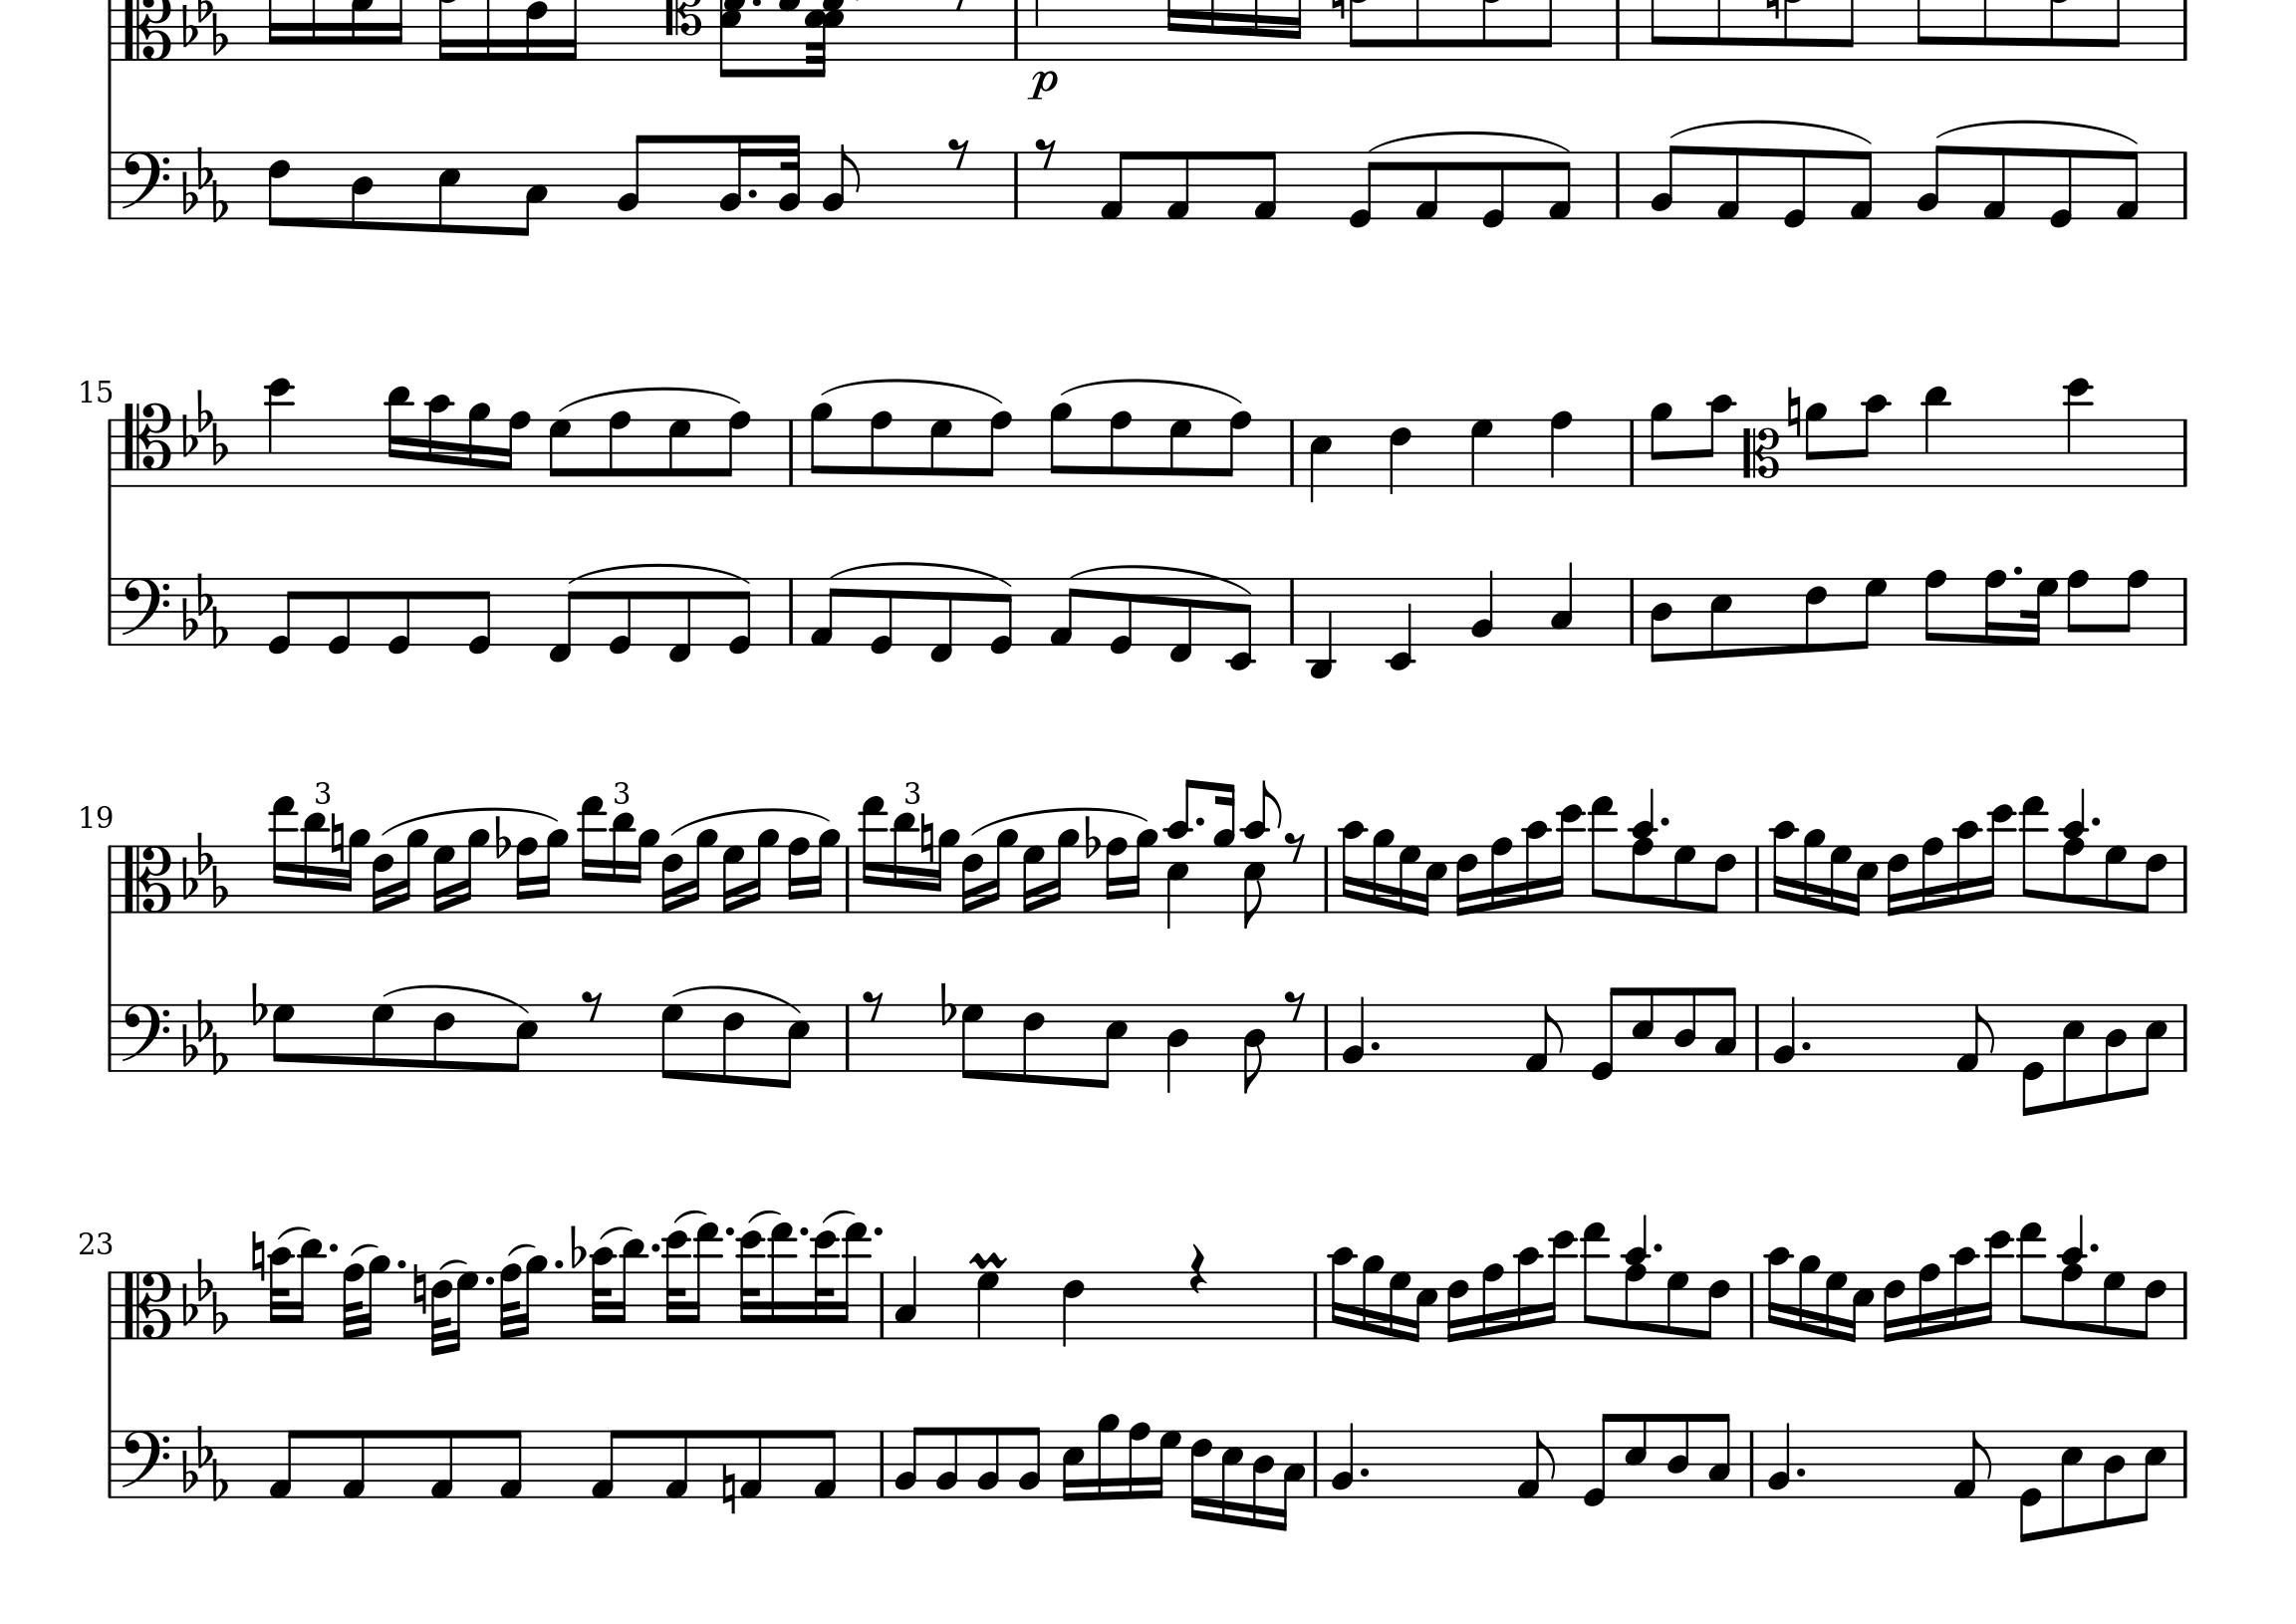1: (79, 376, 93, 404), (79, 801, 93, 830)
16_10: (1326, 1244, 1356, 1341), (1339, 817, 1367, 914), (1769, 817, 1797, 914), (1764, 1244, 1792, 1341), (425, 392, 453, 487), (1523, 817, 1549, 914), (1953, 817, 1980, 914), (1950, 1244, 1976, 1339), (1514, 1246, 1541, 1339)
16_11: (615, 1236, 648, 1341), (383, 383, 413, 487), (293, 1237, 323, 1341), (300, 810, 327, 914), (891, 810, 917, 914), (610, 808, 634, 914)
16_12: (1551, 803, 1585, 916), (1982, 803, 2015, 914), (1980, 1229, 2011, 1343), (1544, 1229, 1574, 1341)
16_13: (689, 1220, 722, 1341), (766, 1220, 796, 1339), (838, 1220, 868, 1339), (269, 794, 295, 914), (859, 794, 885, 914), (578, 794, 604, 912)
16_2: (717, 134, 748, 220)
16_3: (1277, 1429, 1305, 1533)
16_4: (1251, 1427, 1274, 1529)
16_5: (1219, 1427, 1244, 1524), (1409, 1269, 1439, 1343), (1419, 844, 1448, 917), (1846, 1269, 1874, 1343), (1059, 1427, 1086, 1503), (1852, 844, 1878, 917)
16_6: (1188, 1427, 1214, 1520), (1444, 1269, 1469, 1345), (1881, 1269, 1906, 1345), (1885, 844, 1910, 917), (371, 844, 395, 914), (661, 844, 685, 914), (1455, 844, 1477, 917), (961, 845, 984, 914)
16_7: (448, 1269, 480, 1353), (1152, 1427, 1180, 1499), (1822, 1269, 1846, 1343), (720, 844, 745, 914), (1021, 844, 1045, 914), (1395, 844, 1419, 914), (1827, 844, 1852, 914), (1386, 1269, 1409, 1341), (432, 844, 455, 914)
16_8: (499, 410, 531, 487), (1915, 1262, 1941, 1341), (1126, 1420, 1151, 1501), (1983, 568, 2008, 647), (1103, 835, 1128, 914), (1479, 1262, 1504, 1341), (785, 837, 810, 914), (515, 835, 538, 914), (1490, 835, 1513, 914), (1920, 835, 1943, 914)
16_9: (1212, 779, 1237, 916), (362, 1253, 392, 1341), (518, 1253, 548, 1341), (399, 828, 429, 914), (689, 828, 718, 914), (750, 828, 780, 914), (812, 828, 841, 914), (989, 828, 1019, 914), (341, 826, 369, 914), (460, 828, 488, 914), (541, 828, 569, 914), (931, 828, 959, 914), (1051, 828, 1079, 914), (1130, 828, 1158, 914), (1795, 1253, 1822, 1341), (1094, 1411, 1119, 1501), (1801, 826, 1825, 914), (1360, 1253, 1384, 1341), (466, 401, 490, 487), (634, 828, 659, 914), (1370, 826, 1393, 914)
2: (77, 1230, 95, 1255)
3: (903, 779, 921, 807), (613, 779, 631, 805), (95, 1230, 112, 1255), (314, 779, 330, 805)
32_10: (588, 1243, 617, 1341), (267, 1246, 292, 1341)
32_12: (734, 1229, 766, 1339), (661, 1230, 692, 1339), (810, 1230, 838, 1339)
32_2: (776, 132, 801, 221)
32_6: (429, 1269, 453, 1357)
32_7: (2022, 578, 2057, 647)
32_8: (341, 1260, 365, 1341), (497, 1260, 522, 1341)
4_-2: (1386, 575, 1414, 671)
4_-3: (1305, 573, 1335, 682)
4_12: (265, 374, 293, 487), (2064, 376, 2092, 489)
4_2: (1469, 568, 1495, 647), (1771, 993, 1797, 1072), (1765, 1420, 1792, 1499), (1340, 993, 1365, 1074), (1330, 1420, 1354, 1499)
4_3: (1549, 561, 1574, 647), (894, 1253, 917, 1339)
4_4: (1165, 1002, 1191, 1095)
4_5: (1165, 842, 1189, 930), (1309, 418, 1333, 504)
4_6: (1388, 417, 1412, 497), (1061, 1269, 1084, 1350)
4_7: (1469, 418, 1495, 489), (975, 1269, 1001, 1339)
4_8: (1548, 408, 1574, 489)
5: (95, 376, 112, 402)
8_-1: (546, 576, 580, 664), (666, 575, 694, 664), (1168, 575, 1195, 664), (928, 576, 954, 664)
8_-2: (1226, 576, 1256, 671)
8_0: (1579, 1411, 1616, 1508), (1588, 984, 1623, 1083), (2020, 1002, 2045, 1118), (2017, 1427, 2041, 1543), (265, 575, 300, 654), (1347, 149, 1379, 230), (1780, 146, 1808, 230), (2047, 146, 2075, 230), (1479, 148, 1507, 230), (466, 575, 494, 656), (325, 576, 353, 654), (606, 576, 634, 654), (727, 576, 754, 656), (868, 576, 894, 656), (987, 576, 1014, 656), (1108, 576, 1135, 656), (385, 576, 411, 654)
8_1: (1523, 1002, 1565, 1074), (1952, 1427, 1994, 1499), (1514, 1429, 1556, 1499), (1955, 1002, 1996, 1074), (265, 1427, 300, 1499), (1098, 148, 1131, 221), (588, 1427, 622, 1499), (808, 576, 841, 647), (1049, 576, 1080, 647), (1715, 144, 1743, 221), (1980, 144, 2008, 221), (1412, 148, 1440, 221), (2113, 148, 2141, 221), (1163, 149, 1191, 221), (1251, 149, 1279, 221), (339, 1427, 367, 1499), (427, 1427, 455, 1499), (1848, 148, 1874, 221), (497, 1427, 523, 1501), (812, 1427, 838, 1501), (1546, 149, 1572, 221), (662, 1427, 689, 1499), (740, 1427, 764, 1499)
8_10: (1700, 392, 1734, 489), (1855, 392, 1888, 487)
8_11: (1922, 381, 1950, 489)
8_13: (1579, 1220, 1609, 1341), (1588, 794, 1616, 916), (2018, 794, 2047, 916), (2017, 1222, 2045, 1341)
8_2: (820, 142, 861, 220), (615, 134, 650, 220), (1648, 144, 1681, 220), (1915, 144, 1948, 220), (892, 1424, 924, 1499), (935, 1425, 959, 1499), (975, 1425, 1000, 1499), (1017, 1425, 1042, 1499)
8_3: (515, 148, 548, 237), (1713, 984, 1737, 1074), (1706, 1411, 1730, 1499)
8_4: (2103, 1002, 2127, 1104), (2101, 1427, 2126, 1529), (1672, 984, 1699, 1074), (1648, 576, 1674, 664), (1665, 1411, 1692, 1499), (1242, 1002, 1267, 1095), (350, 148, 376, 232)
8_5: (2136, 1427, 2168, 1522), (778, 1002, 812, 1090), (1094, 1002, 1128, 1090), (2138, 1000, 2168, 1097), (2057, 1427, 2083, 1536), (2061, 1000, 2085, 1109), (504, 1002, 539, 1074), (436, 148, 462, 236), (1708, 575, 1734, 659), (1630, 984, 1655, 1074), (1623, 1411, 1648, 1499)
8_5_10: (1242, 780, 1282, 928)
8_6: (2136, 1269, 2168, 1341), (265, 148, 293, 228), (1706, 844, 1737, 914), (1700, 1269, 1730, 1341), (2138, 844, 2168, 914), (720, 1002, 745, 1084), (1021, 1002, 1045, 1084), (1802, 575, 1827, 654), (432, 1002, 457, 1074)
8_7: (1853, 575, 1887, 650), (659, 1002, 685, 1081), (959, 1002, 984, 1079), (369, 1002, 395, 1074), (666, 418, 692, 489), (928, 418, 954, 489), (1671, 844, 1697, 914), (1168, 418, 1193, 489), (2103, 844, 2127, 914), (271, 1002, 295, 1072), (1665, 1269, 1690, 1339), (2101, 1269, 2126, 1339), (548, 417, 571, 487)
8_8: (717, 408, 752, 489), (1217, 410, 1253, 489), (978, 410, 1012, 489), (2115, 568, 2148, 647), (868, 408, 894, 489), (1922, 568, 1948, 647), (2064, 568, 2090, 647), (606, 410, 631, 489), (1108, 410, 1133, 489), (1623, 1265, 1646, 1343)
8_9: (1648, 401, 1674, 489), (808, 401, 833, 489), (1049, 401, 1073, 489), (1804, 401, 1827, 489)
9: (95, 801, 112, 830)
Cclef: (121, 1269, 172, 1341), (121, 844, 172, 914), (121, 2, 172, 62), (1741, 418, 1780, 487)
E_F: (181, 1257, 228, 1336), (181, 830, 227, 907), (181, 144, 227, 220), (181, 388, 227, 464), (181, 998, 227, 1074), (181, 1424, 227, 1499), (181, 571, 225, 645), (183, 2, 227, 58)
Fclef: (118, 1000, 172, 1072), (118, 1427, 172, 1499), (119, 146, 172, 220), (119, 575, 172, 647)
Flat: (1082, 814, 1101, 859), (494, 814, 511, 861), (567, 1222, 585, 1269), (249, 981, 267, 1026), (938, 981, 956, 1026)
Natural: (718, 1462, 738, 1515), (249, 1227, 265, 1283), (919, 810, 935, 863), (411, 1262, 427, 1315), (1787, 383, 1801, 439), (330, 810, 344, 863)
Rests4: (1188, 1241, 1209, 1295)
Rests8: (947, 135, 971, 170), (580, 986, 604, 1019), (861, 988, 885, 1021), (1282, 988, 1307, 1021), (1035, 135, 1058, 169), (1284, 830, 1307, 863)
ShortTrill: (966, 1248, 1010, 1269)
Single_barline: (102, 151, 121, 218), (1282, 418, 1302, 485), (2175, 418, 2194, 485), (1609, 151, 1628, 216), (102, 576, 119, 645), (2177, 576, 2194, 645), (1007, 151, 1024, 218), (2177, 151, 2194, 218), (1623, 418, 1641, 485), (1748, 1004, 1765, 1070), (873, 1271, 891, 1338), (873, 1429, 891, 1496), (1623, 578, 1641, 643), (838, 1005, 856, 1070), (2175, 2, 2194, 60), (783, 576, 799, 645), (2178, 1429, 2194, 1497), (783, 418, 799, 485), (102, 845, 118, 912), (102, 1004, 118, 1070), (102, 1271, 118, 1338), (1307, 1271, 1323, 1338), (102, 1429, 118, 1496), (1307, 1429, 1323, 1496), (1743, 1429, 1758, 1496), (102, 418, 118, 483), (1007, 2, 1024, 58), (1609, 2, 1627, 58), (2178, 1002, 2192, 1072), (1284, 576, 1298, 645), (2178, 845, 2192, 912), (1750, 845, 1764, 912), (2178, 1271, 2192, 1338), (1744, 1271, 1758, 1338), (102, 2, 118, 60), (1319, 845, 1333, 910), (841, 845, 856, 910), (1319, 1004, 1333, 1069)
Slur: (819, 378, 1007, 408), (1070, 564, 1253, 594), (552, 385, 741, 411), (1059, 380, 1245, 406), (827, 562, 1021, 587), (970, 807, 1151, 831), (567, 562, 755, 585), (378, 984, 529, 1012), (675, 807, 827, 833), (1367, 132, 1574, 151), (671, 984, 801, 1014), (1672, 120, 1867, 137), (673, 1207, 710, 1223), (820, 1207, 857, 1223), (599, 1225, 634, 1241), (504, 1241, 538, 1257), (747, 1209, 783, 1223), (278, 1225, 309, 1241), (348, 1243, 379, 1257), (437, 1257, 469, 1271)
Tensor_Cclef: (121, 399, 172, 487)
dot: (745, 185, 761, 200), (2010, 562, 2025, 576), (1193, 814, 1207, 830), (481, 1271, 495, 1287), (871, 1223, 885, 1237), (1651, 1239, 1664, 1255), (2087, 1239, 2099, 1255), (325, 1241, 341, 1253), (1658, 814, 1671, 828), (2089, 814, 2101, 828), (648, 1241, 662, 1253), (552, 1257, 564, 1271), (1358, 1464, 1370, 1478), (1794, 1466, 1808, 1478), (1368, 1039, 1381, 1051), (1799, 1039, 1811, 1051), (395, 1257, 408, 1269), (798, 1225, 810, 1236), (724, 1225, 734, 1237)
p: (1026, 69, 1059, 102)
